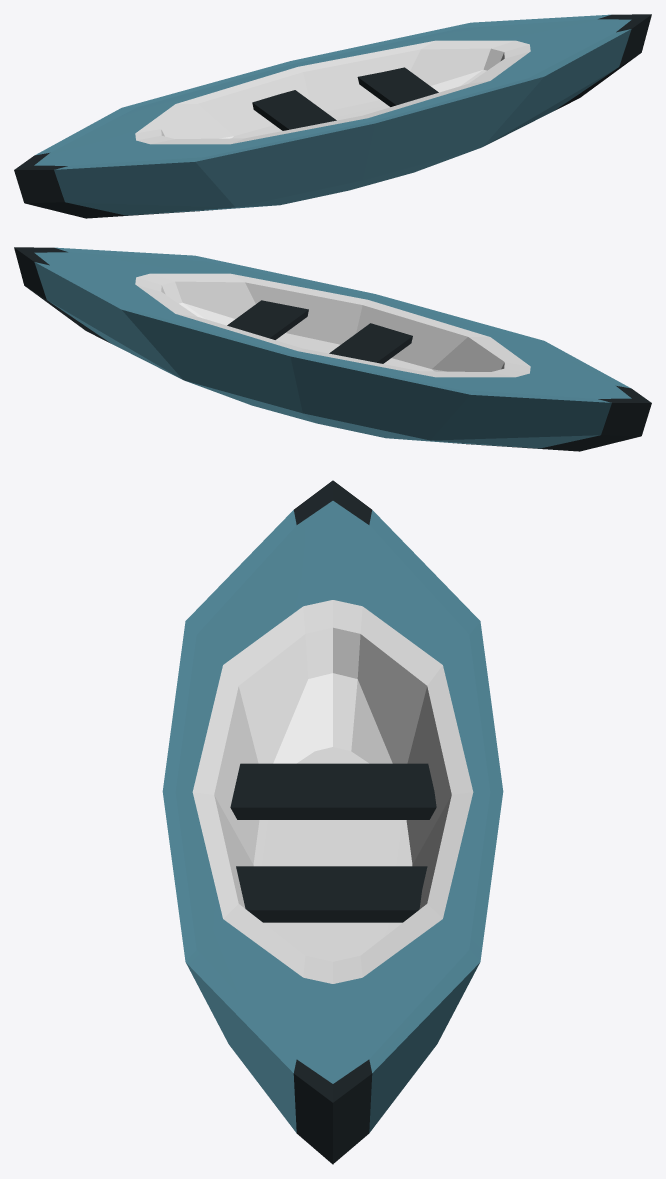
File: Kayak_02.fbx
The picture shows the model from 3 angles, top to bottom: view 1: azimuth 30°, elevation 25°; view 2: azimuth 150°, elevation 25°; view 3: azimuth 270°, elevation 25°; orthographic projection. The views are drawn at different scales.
Visible parts, largest first — view 1: Kayak_02; view 2: Kayak_02; view 3: Kayak_02.
Part boxes in pixels (left/top/right/bottom): Kayak_02: left=14, top=14, right=651, bottom=218; Kayak_02: left=14, top=247, right=651, bottom=451; Kayak_02: left=162, top=480, right=503, bottom=1164.
Size of the model in its own units: 277 by 38.71 by 63.93.
